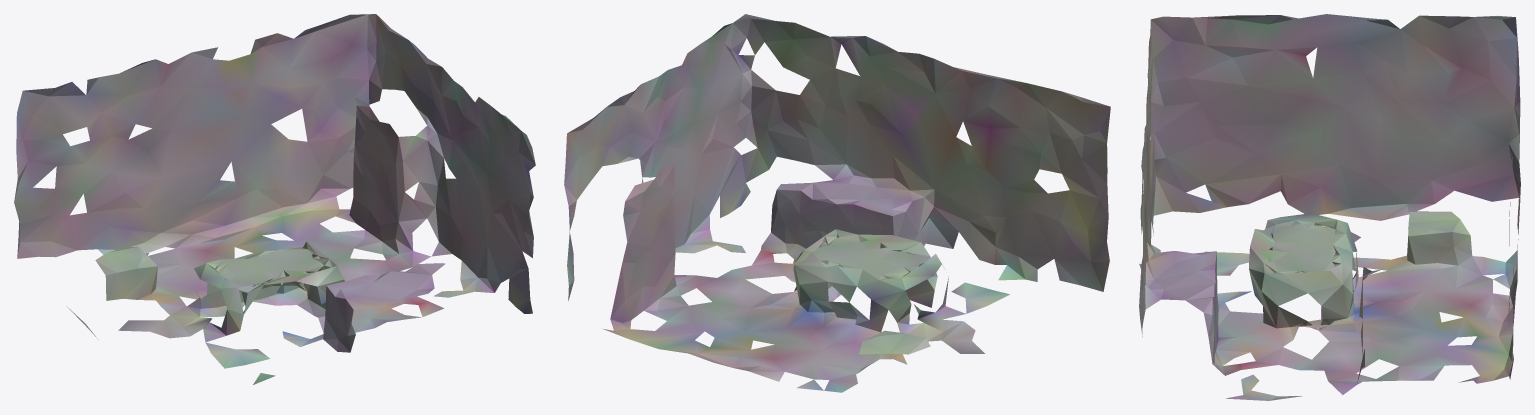
3 renders of one model, left to right at view 1: azimuth 30°, elevation 25°; view 2: azimuth 150°, elevation 25°; view 3: azimuth 270°, elevation 25°, orthographic. The views are drawn at different scales.
Visible parts, largest first — view 1: geometry_0; view 2: geometry_0; view 3: geometry_0.
Boxes of the visible parts, box(x1,y1,x2,y2) form: geometry_0: box(14, 14, 535, 384); geometry_0: box(564, 14, 1110, 392); geometry_0: box(1139, 14, 1520, 400).
Bounding box in the file's own units: 5.99 × 3.11 × 5.03.
